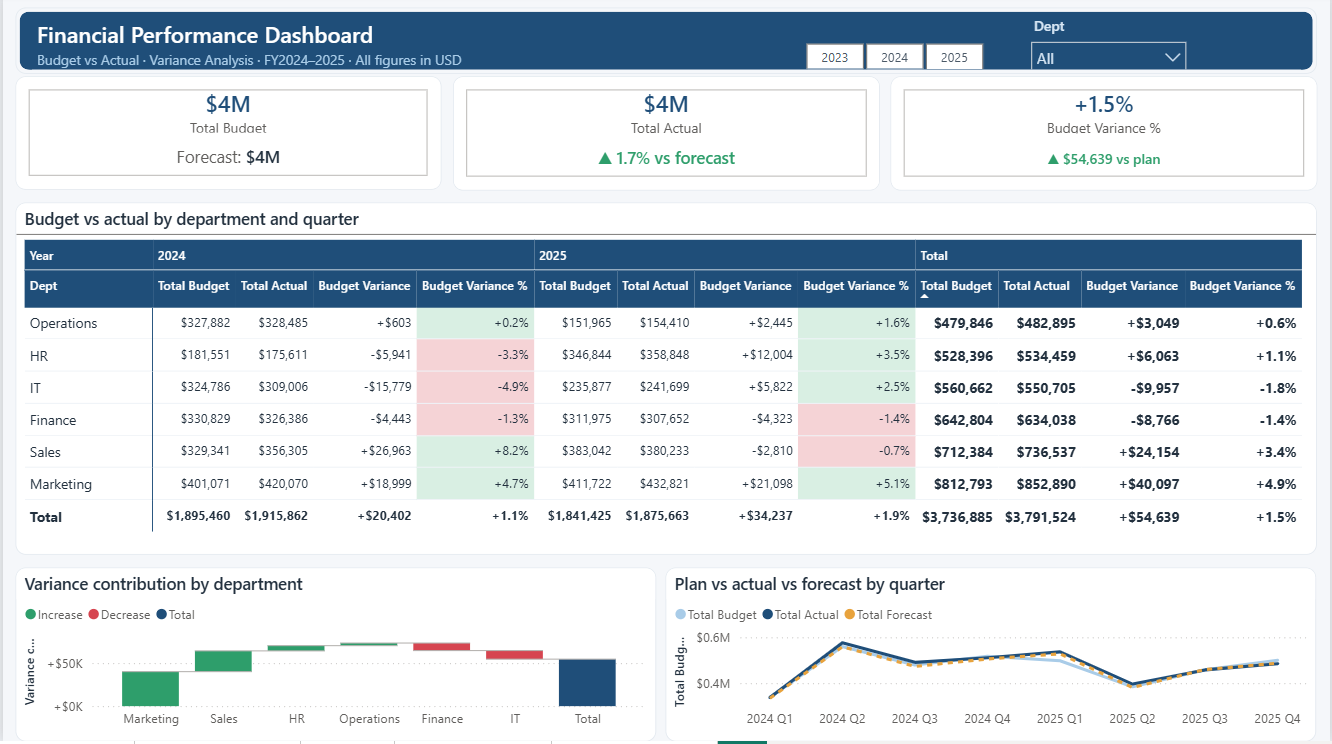

The page's visual inventory and layout, read from the dashboard file:
{"tool":"powerbi","page":{"name":"Budget vs Actual ","canvas":[1280,720],"ordinal":1},"visuals":[{"type":"shape","box":[12,12,1256,64],"z":0},{"type":"textbox","box":[28,18,500,44],"z":1000},{"type":"slicer","fields":{"Values":["Dim_Date.Year"]},"box":[749.2,39.8,220.9,31.6],"z":2000},{"type":"textbox","box":[28,48,560,30],"z":3000},{"type":"slicer","fields":{"Values":["Dim_Department.Dept"]},"box":[982.5,15.1,170.2,56.3],"z":4000},{"type":"cardVisual","fields":{"Data":["Fact_Budget.Total Actual"]},"box":[434,77.9,412,110],"z":5000},{"type":"cardVisual","fields":{"Data":["Fact_Budget.Budget Variance %"]},"box":[856,77.9,412,110],"z":6000},{"type":"pivotTable","title":"Budget vs actual by department and quarter ","fields":{"Rows":["Dim_Department.Dept"],"Columns":["Dim_Date.Year","Dim_Date.Quarter"],"Values":["Fact_Budget.Total Budget","Fact_Budget.Total Actual","Fact_Budget.Budget Variance","Fact_Budget.Budget Variance %"]},"box":[12.3,200,1256,340],"z":7000},{"type":"waterfallChart","title":"Variance contribution by department ","fields":{"Category":["Dim_Department.Dept"],"Y":["Fact_Budget.Budget Variance"]},"box":[12,552,618,168],"z":8000},{"type":"lineChart","title":"Plan vs actual vs forecast by quarter","fields":{"Category":["Dim_Date.YearQuarter"],"Y":["Fact_Budget.Total Budget","Fact_Budget.Total Actual","Fact_Budget.Total Forecast"]},"box":[640,552,628,168],"z":9000},{"type":"cardVisual","fields":{"Data":["Fact_Budget.Total Budget"]},"box":[12.3,78.3,411.2,109.2],"z":10000}]}

Visuals, with their boxes in screenshot pixels (x1, y1, x2, y2), scaled from the page's 1280x720 canvas onto the 1332x744 screenshot:
shape: region(12, 12, 1320, 79)
textbox: region(29, 19, 549, 64)
slicer - Dim_Date.Year: region(780, 41, 1010, 74)
textbox: region(29, 50, 612, 81)
slicer - Dim_Department.Dept: region(1022, 16, 1200, 74)
cardVisual - Fact_Budget.Total Actual: region(452, 80, 880, 194)
cardVisual - Fact_Budget.Budget Variance %: region(891, 80, 1320, 194)
"Budget vs actual by department and quarter " pivotTable: region(13, 207, 1320, 558)
"Variance contribution by department " waterfallChart: region(12, 570, 656, 743)
"Plan vs actual vs forecast by quarter" lineChart: region(666, 570, 1320, 743)
cardVisual - Fact_Budget.Total Budget: region(13, 81, 441, 194)
